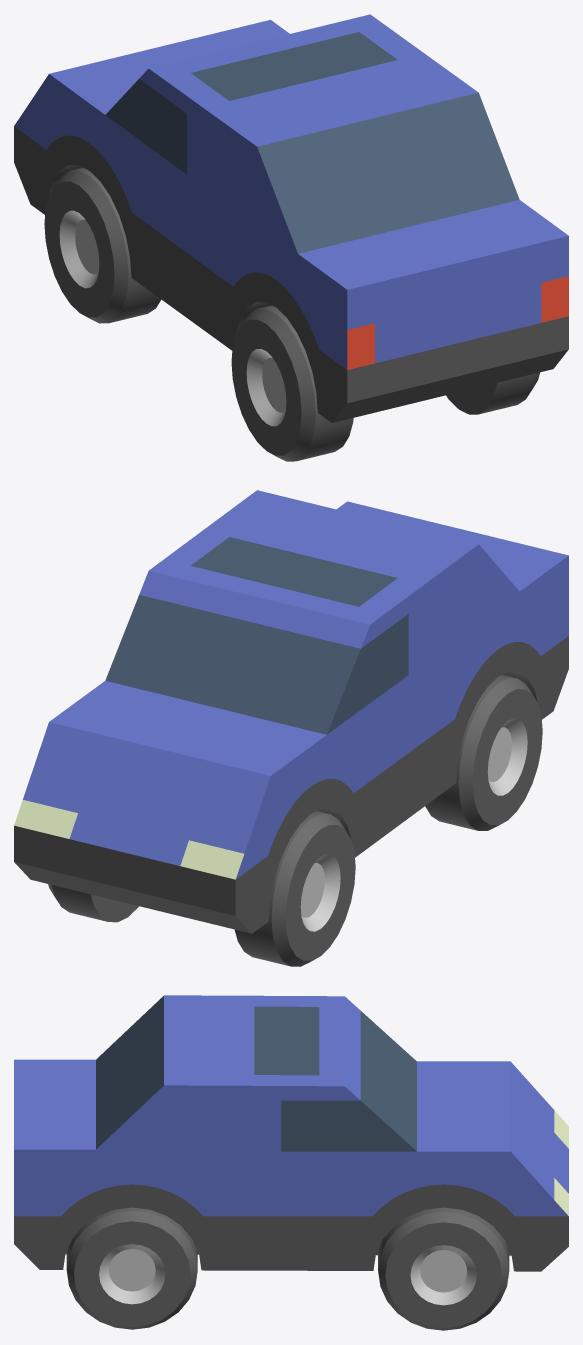
File: carLuxury.fbx
3 renders of one model, top to bottom at view 1: azimuth 30°, elevation 25°; view 2: azimuth 150°, elevation 25°; view 3: azimuth 270°, elevation 25°, orthographic. The views are drawn at different scales.
Parts seen in each view (by area): view 1: body 5, wheelBackLeft 5, wheelFrontLeft 5, wheelBackRight 5; view 2: body 5, wheelFrontLeft 5, wheelBackLeft 5, wheelFrontRight 5; view 3: body 5, wheelFrontRight 5, wheelBackRight 5.
Part boxes in pixels (x1=…): body 5: x1=14, y1=14, x2=568, y2=422; wheelBackLeft 5: x1=231, y1=305, x2=353, y2=461; wheelFrontLeft 5: x1=44, y1=167, x2=161, y2=323; wheelBackRight 5: x1=446, y1=372, x2=539, y2=414; body 5: x1=14, y1=490, x2=568, y2=933; wheelFrontLeft 5: x1=234, y1=811, x2=355, y2=966; wheelBackLeft 5: x1=425, y1=675, x2=542, y2=830; wheelFrontRight 5: x1=48, y1=884, x2=138, y2=922; body 5: x1=14, y1=995, x2=568, y2=1271; wheelFrontRight 5: x1=378, y1=1207, x2=509, y2=1330; wheelBackRight 5: x1=66, y1=1207, x2=197, y2=1329.
Size of the model in its own units: 4.95 by 5.8 by 11.85.
